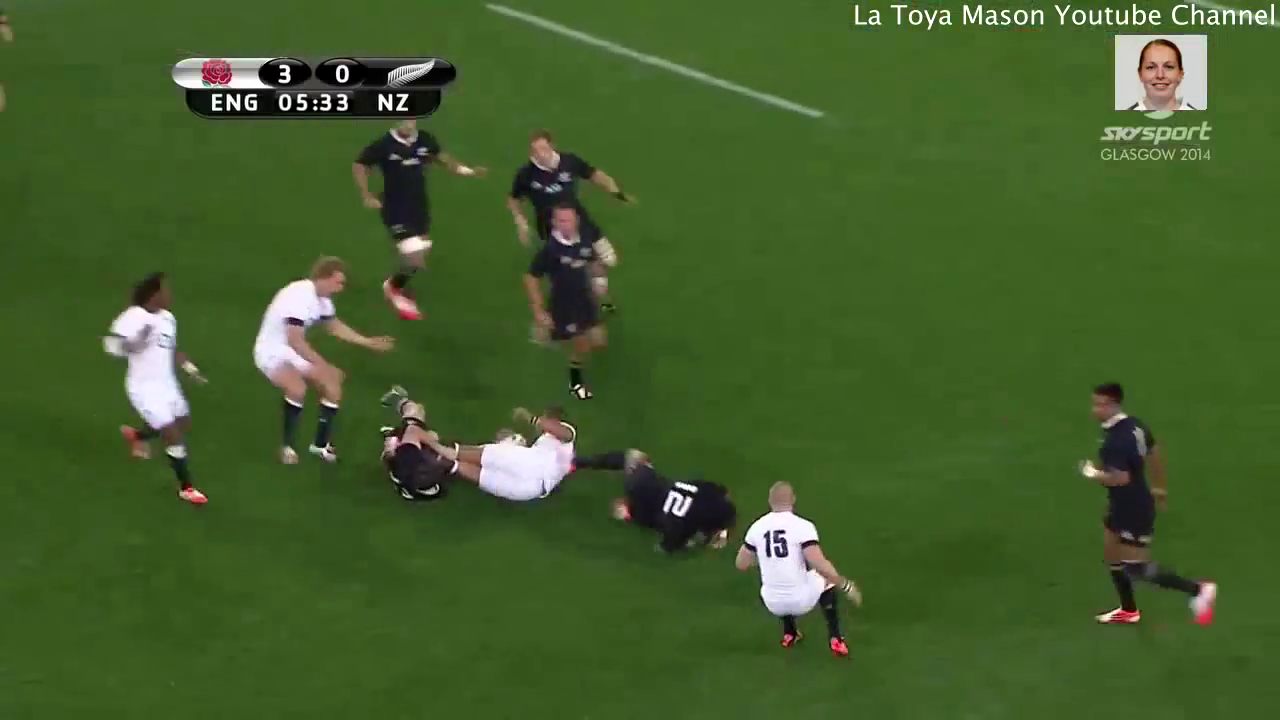player: (1063, 379, 1234, 648), (92, 268, 229, 512), (244, 250, 375, 472), (731, 473, 870, 666), (349, 121, 474, 332), (577, 439, 733, 564), (524, 206, 620, 405), (436, 403, 578, 508), (497, 131, 634, 231), (370, 378, 455, 504)
